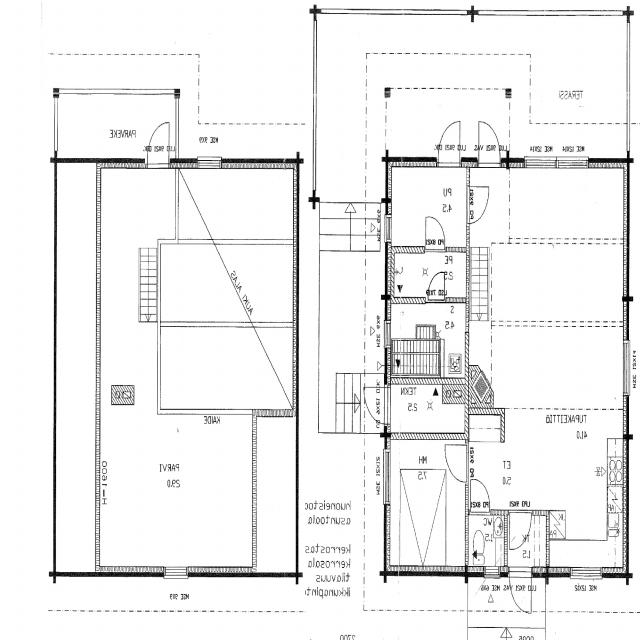door: (438, 126, 460, 168), (147, 126, 169, 168), (366, 387, 390, 424), (466, 186, 490, 223), (479, 126, 500, 168), (510, 567, 531, 609), (444, 446, 468, 482), (510, 510, 531, 551), (426, 215, 445, 252), (471, 478, 490, 515), (428, 270, 445, 302)
